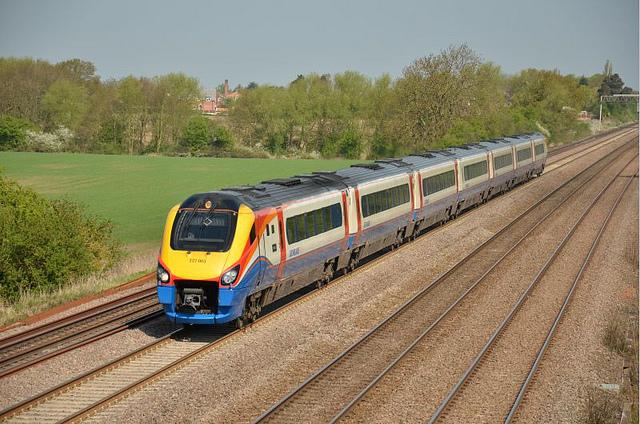Train: (160, 132, 548, 325)
